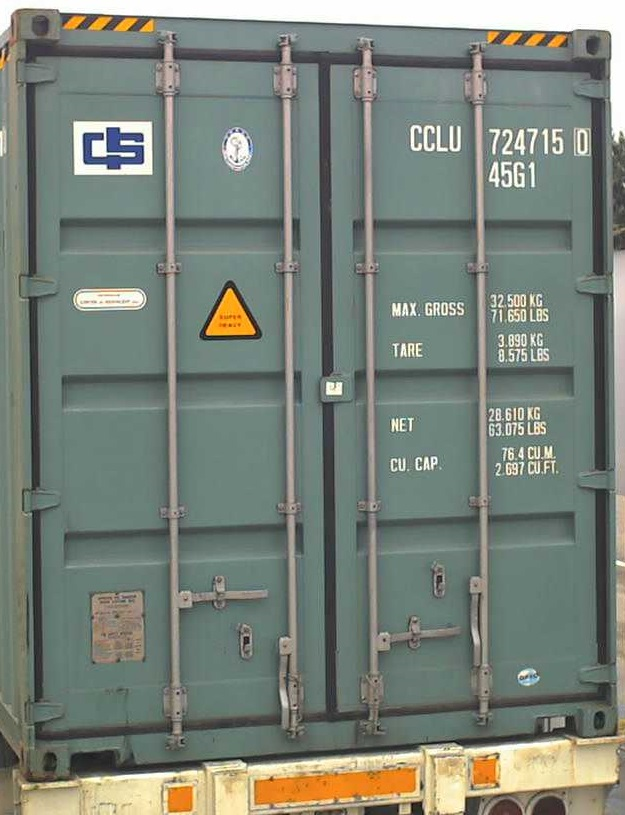container_door: (15, 8, 611, 789)
